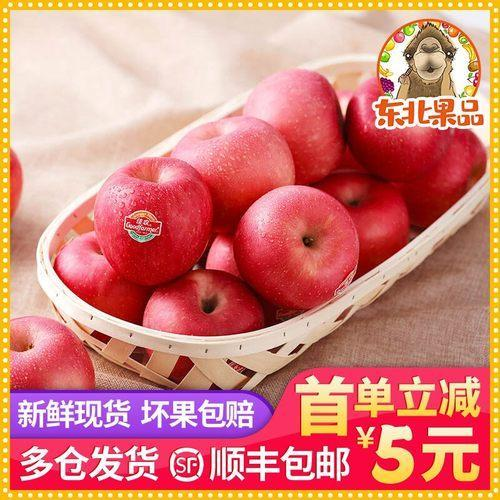apple: (93, 155, 213, 286), (233, 186, 359, 310), (170, 117, 296, 232), (240, 66, 343, 185), (313, 173, 409, 279), (393, 130, 486, 227), (56, 233, 145, 328), (139, 269, 265, 336), (10, 314, 96, 392)
